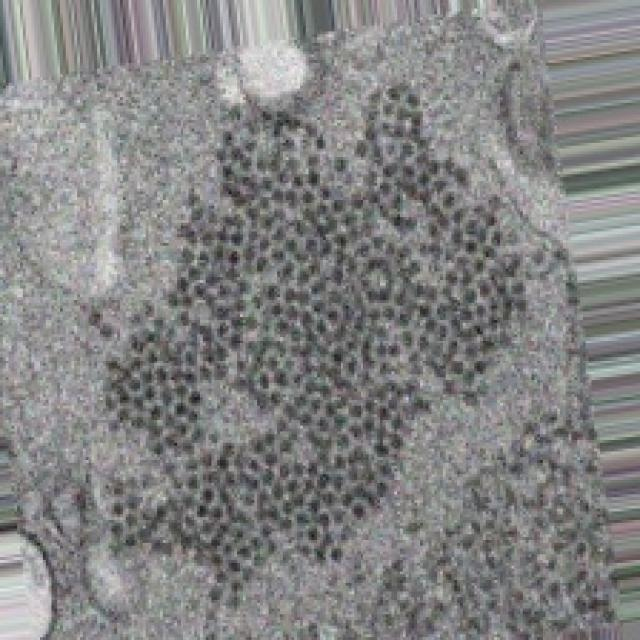Spherical_bacteria: (0, 0, 626, 637)
